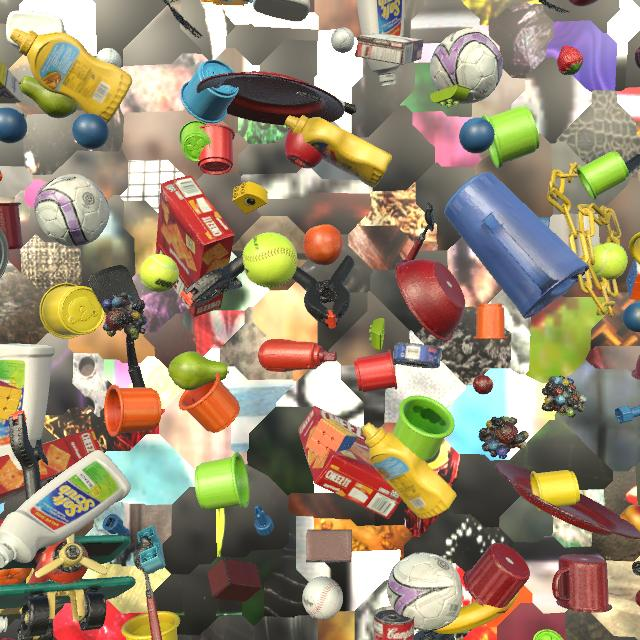ycb_003_cracker_box: (298, 406, 402, 519), (156, 175, 235, 318), (0, 429, 101, 504)
ycb_004_sugar_box: (0, 62, 23, 104)
ycb_005_tomato_soup_can: (373, 606, 414, 640)
ycb_006_mustard_bottle: (10, 28, 132, 124), (362, 423, 457, 519), (284, 115, 392, 187)
ycb_007_tuna_fish_can: (393, 343, 442, 368)
ycb_008_pudding_box: (355, 34, 424, 65)
ycb_011_banana: (425, 592, 519, 634)
ycb_012_strawberry: (557, 45, 583, 75)
ycb_013_apple: (285, 129, 323, 169), (569, 0, 598, 7)
ycb_015_peach: (619, 504, 640, 540)
ycb_016_pear: (19, 76, 78, 118), (168, 351, 229, 390)
ycb_017_orange: (303, 224, 343, 266), (0, 568, 32, 585)
ycb_018_plum: (635, 47, 640, 69)
